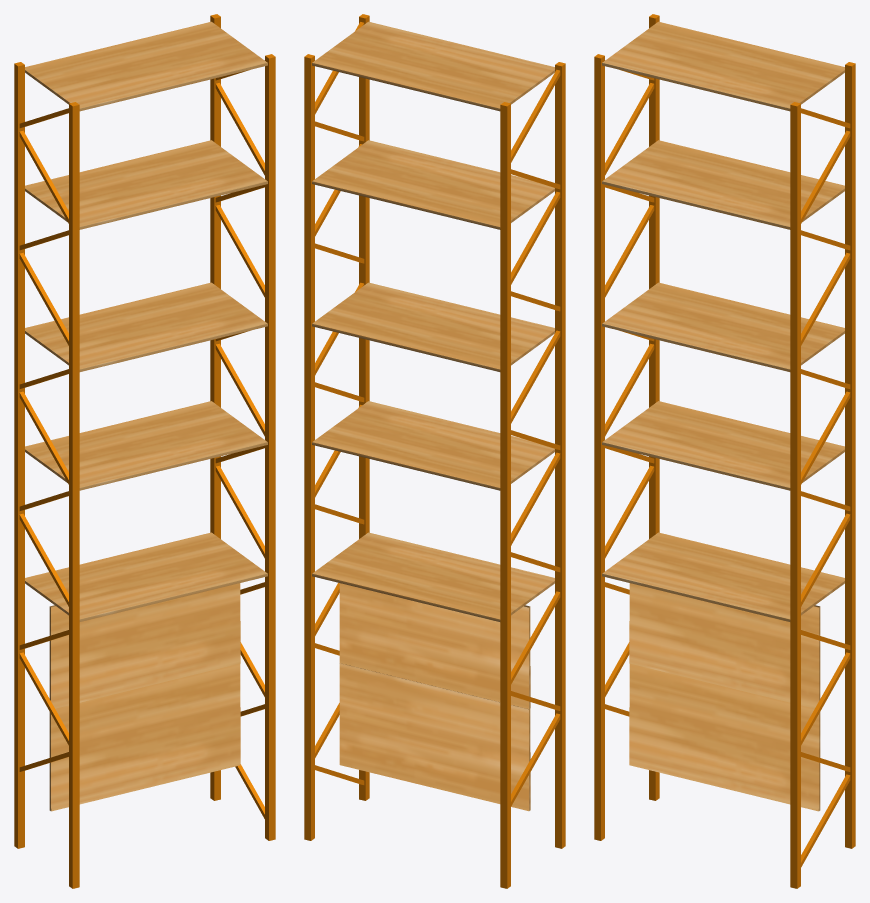
Rendered from Industrial_Rack_08.fbx.
3 views of the same model, side by side, from view 1: azimuth 30°, elevation 25°; view 2: azimuth 150°, elevation 25°; view 3: azimuth 330°, elevation 25° (orthographic).
Parts seen in each view (by area): view 1: Industrial_Rack_08; view 2: Industrial_Rack_08; view 3: Industrial_Rack_08.
Part boxes in pixels (x1,y1,x2,y2): Industrial_Rack_08: (14, 14, 275, 888); Industrial_Rack_08: (304, 14, 565, 888); Industrial_Rack_08: (594, 14, 855, 888).
Bounding box in the file's own units: 2 × 7.37 × 1.
